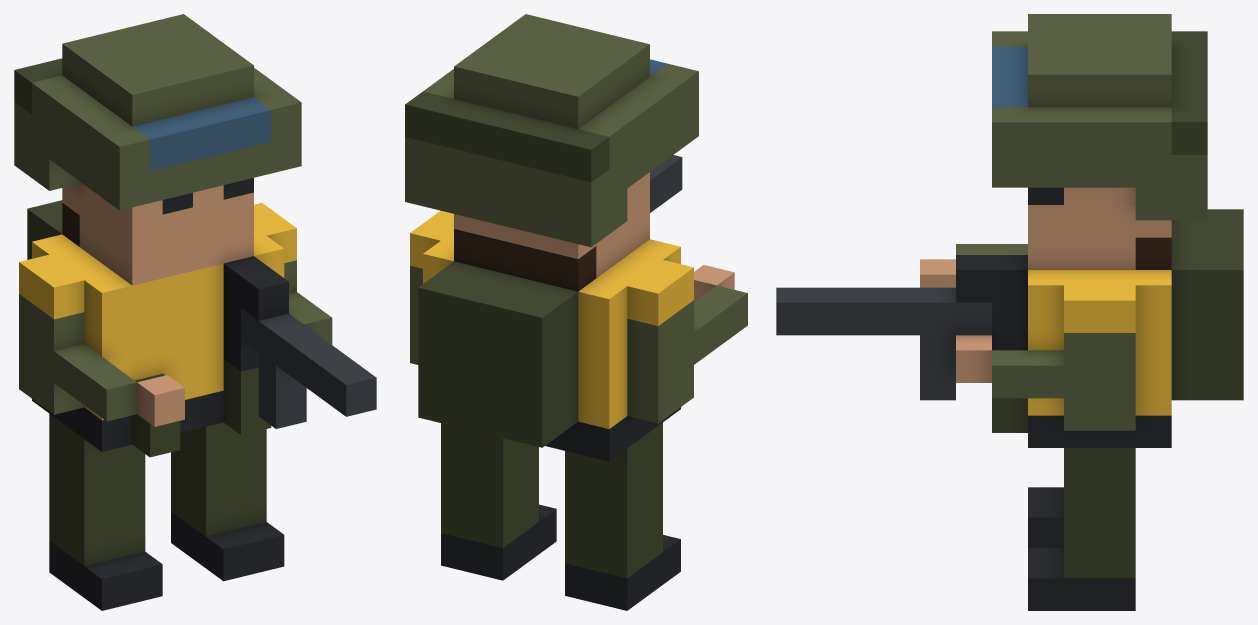
The model's file is cm_rifle_2.glb.
The picture shows the model from 3 angles, left to right: view 1: azimuth 30°, elevation 25°; view 2: azimuth 150°, elevation 25°; view 3: azimuth 270°, elevation 25°; orthographic projection. The views are drawn at different scales.
Parts seen in each view (by area): view 1: cm_rifle_2_body; view 2: cm_rifle_2_body; view 3: cm_rifle_2_body.
Boxes of the visible parts, x1,y1,x2,y2 form: cm_rifle_2_body: (14, 14, 376, 610); cm_rifle_2_body: (405, 14, 747, 610); cm_rifle_2_body: (776, 14, 1243, 610).
Size of the model in its own units: 0.5 by 1 by 0.8125.
1 material, 1 textured.
